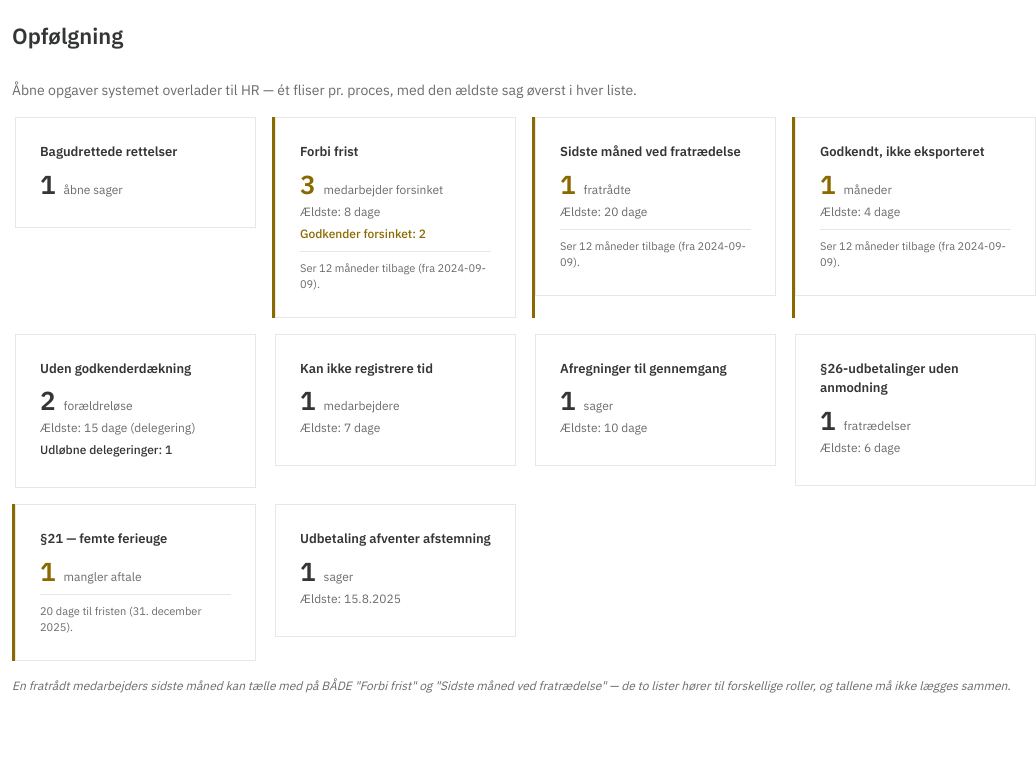
Test case: OpfoelgningPage — each tile opens its list › opens the past-deadline list (first paint asks for `summary=true`; the list only renders once the lazy FULL fetch lands)
Click the button with test id "tile-past-deadline". click: (396, 217)
box: [300,142,491,292]
(page scrolled)
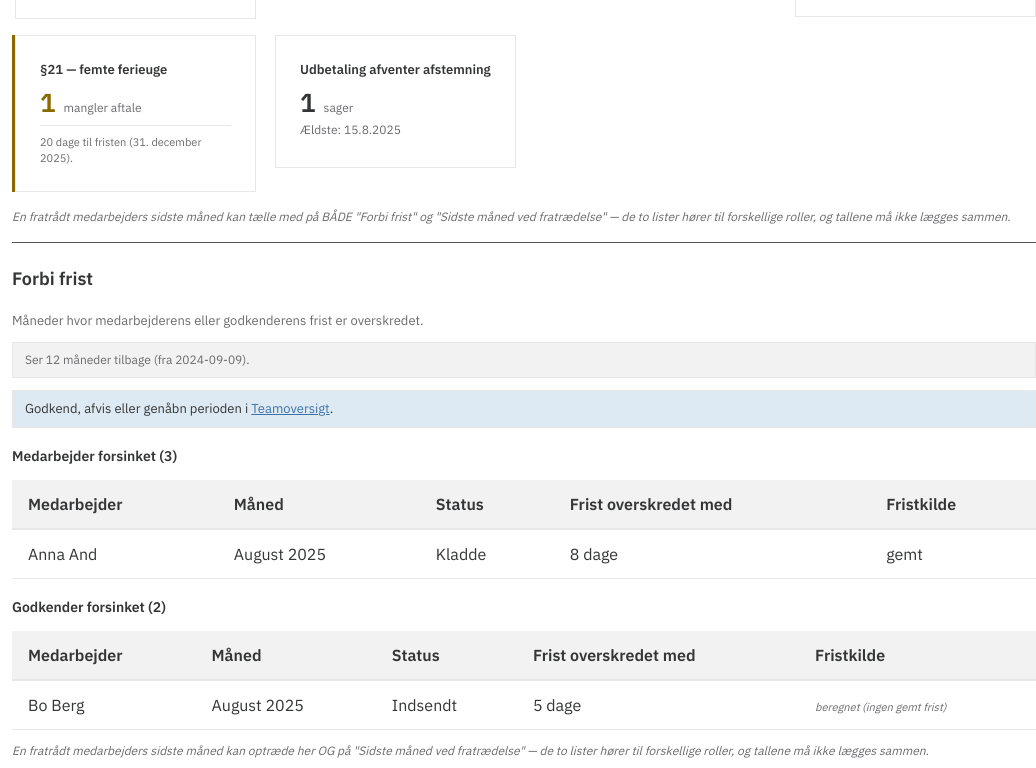
Expected: the element with test id "list-past-deadline" is shown
Expected: the text "Anna And" is shown, [12,528,218,578]
